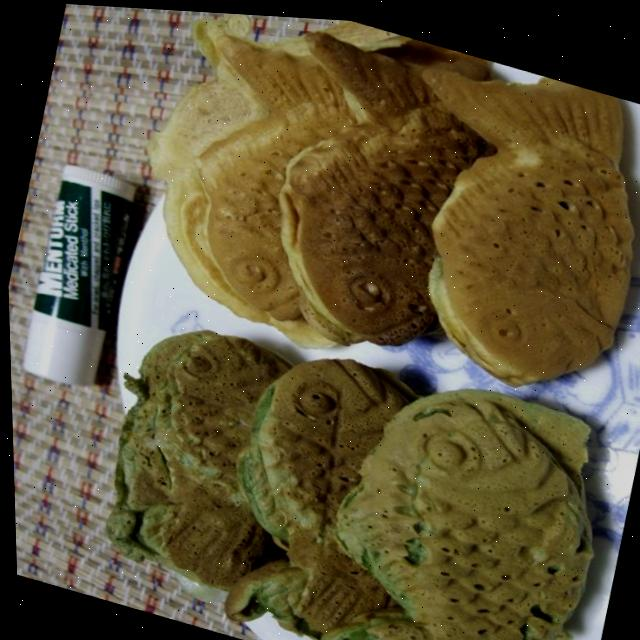熟制海鲜: (38, 2, 640, 640)
